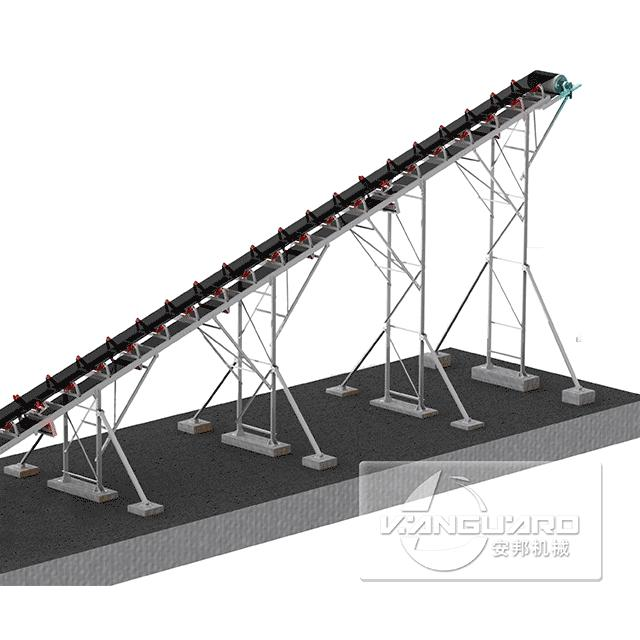conveyor: (3, 43, 586, 488)
